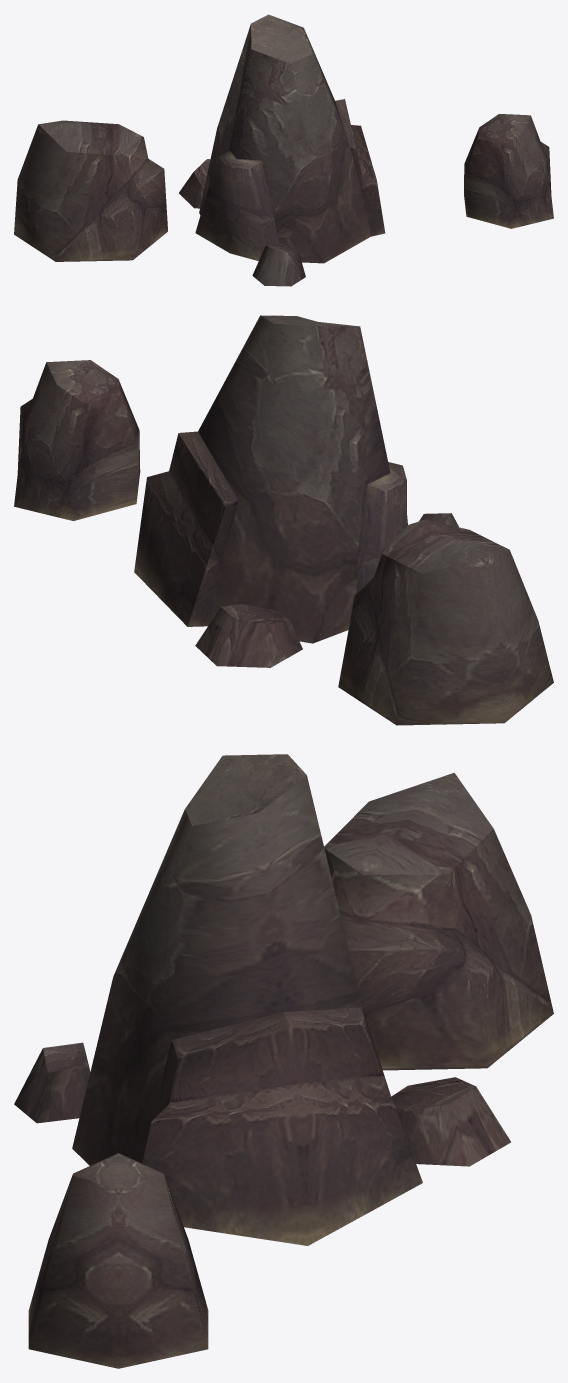
Rendered from yw_shibalipo_suishi03.FBX.
The picture shows the model from 3 angles, top to bottom: view 1: azimuth 30°, elevation 25°; view 2: azimuth 150°, elevation 25°; view 3: azimuth 270°, elevation 25°; orthographic projection. The views are drawn at different scales.
Parts seen in each view (by area): view 1: yw_shibalipo_suishi03; view 2: yw_shibalipo_suishi03; view 3: yw_shibalipo_suishi03.
Boxes of the visible parts, x1,y1,x2,y2 form: yw_shibalipo_suishi03: (14, 14, 553, 286); yw_shibalipo_suishi03: (14, 315, 553, 725); yw_shibalipo_suishi03: (14, 754, 553, 1368).
Bounding box in the file's own units: 372 × 162 × 209.
